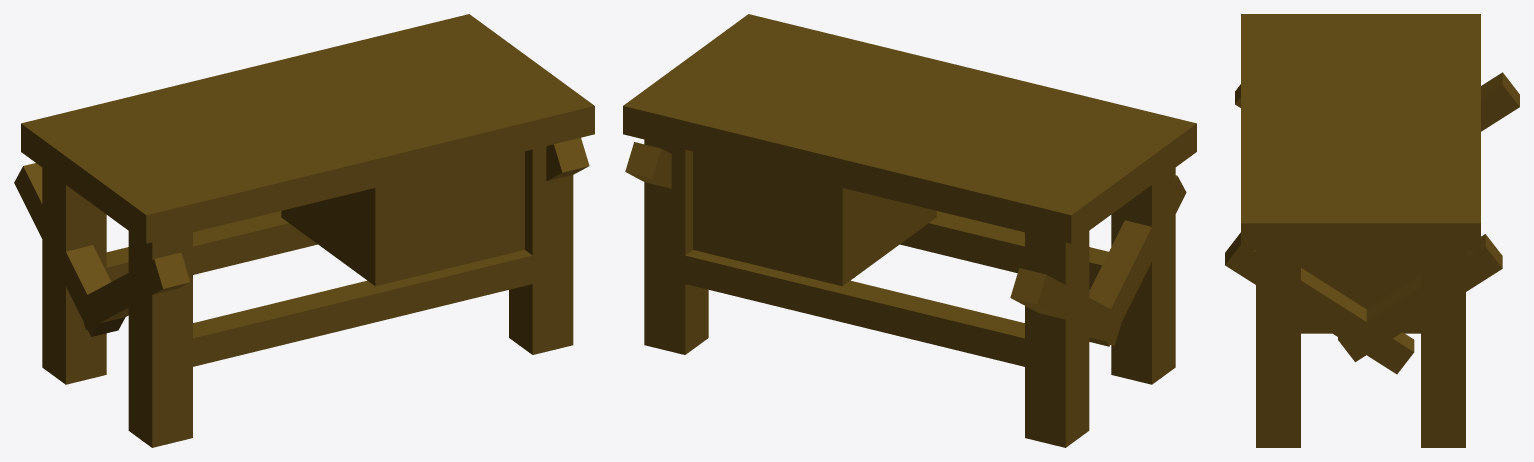
The model's file is researchdesk.obj.
The picture shows the model from 3 angles, left to right: view 1: azimuth 30°, elevation 25°; view 2: azimuth 150°, elevation 25°; view 3: azimuth 270°, elevation 25°; orthographic projection. The views are drawn at different scales.
Parts seen in each view (by area): view 1: ban, cube, gengliang2, zhu4, zhu3, zhu2, gengliang, wan3, wan4, wan2; view 2: ban, cube, gengliang, zhu2, zhu1, zhu4, gengliang2, wan4, wan3, wan1; view 3: ban, zhu1, zhu3, wan2, cube, wan1, wan3.
Boxes of the visible parts, bbox=[...] form: ban: bbox=[21, 14, 594, 243]; cube: bbox=[281, 151, 524, 286]; gengliang2: bbox=[193, 250, 532, 366]; zhu4: bbox=[128, 231, 192, 447]; zhu3: bbox=[509, 146, 573, 354]; zhu2: bbox=[42, 168, 106, 384]; gengliang: bbox=[106, 211, 317, 281]; wan3: bbox=[14, 163, 125, 336]; wan4: bbox=[77, 252, 189, 330]; wan2: bbox=[546, 138, 589, 181]; ban: bbox=[623, 14, 1196, 243]; cube: bbox=[693, 151, 936, 286]; gengliang: bbox=[685, 250, 1024, 366]; zhu2: bbox=[1025, 231, 1089, 447]; zhu1: bbox=[644, 139, 708, 354]; zhu4: bbox=[1111, 167, 1175, 384]; gengliang2: bbox=[900, 211, 1108, 290]; wan4: bbox=[1089, 175, 1186, 346]; wan3: bbox=[1010, 268, 1121, 345]; wan1: bbox=[625, 142, 671, 188]; ban: bbox=[1241, 14, 1480, 250]; zhu1: bbox=[1421, 250, 1465, 447]; zhu3: bbox=[1256, 250, 1300, 447]; wan2: bbox=[1225, 232, 1414, 374]; cube: bbox=[1301, 250, 1420, 333]; wan1: bbox=[1338, 234, 1502, 362]; wan3: bbox=[1481, 72, 1519, 131].
Bounding box in the file's own units: 2.06 × 1.06 × 1.23.
